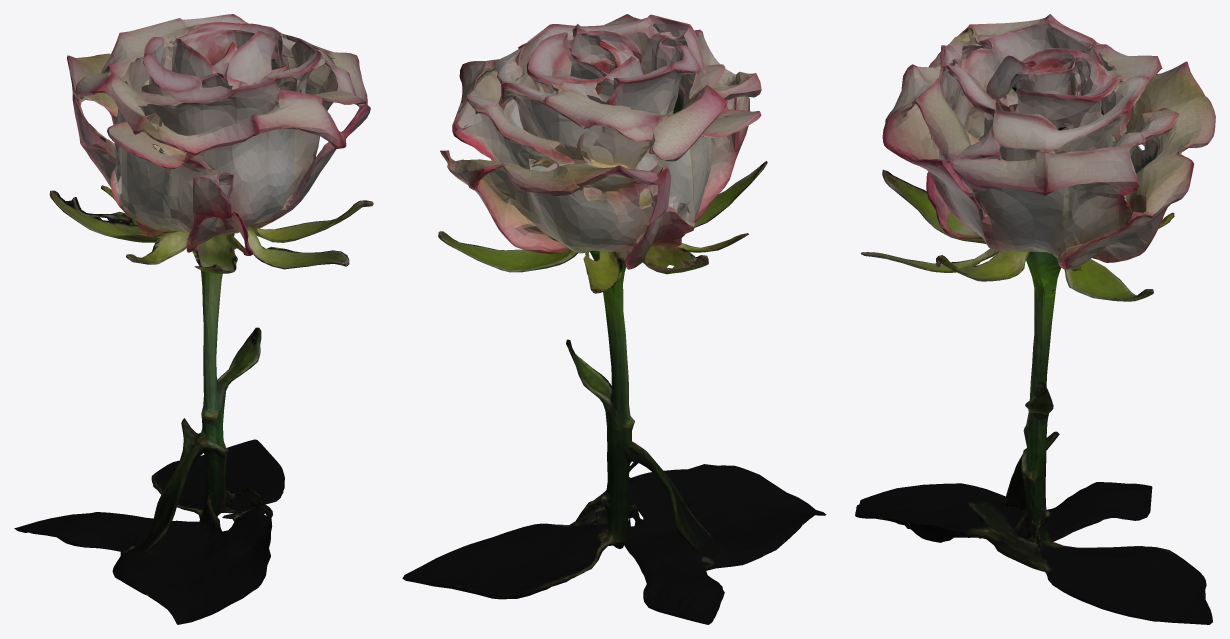
3 views of the same model, side by side, from view 1: azimuth 30°, elevation 25°; view 2: azimuth 150°, elevation 25°; view 3: azimuth 270°, elevation 25° (orthographic). The views are drawn at different scales.
Parts seen in each view (by area): view 1: world; view 2: world; view 3: world.
Part boxes in pixels (left/top/right/bottom): world: left=14, top=14, right=373, bottom=624; world: left=402, top=14, right=826, bottom=624; world: left=855, top=14, right=1215, bottom=624.
Bounding box in the file's own units: 0.613 × 0.9859 × 0.6258.
Materials: 1 (1 with a texture image).
